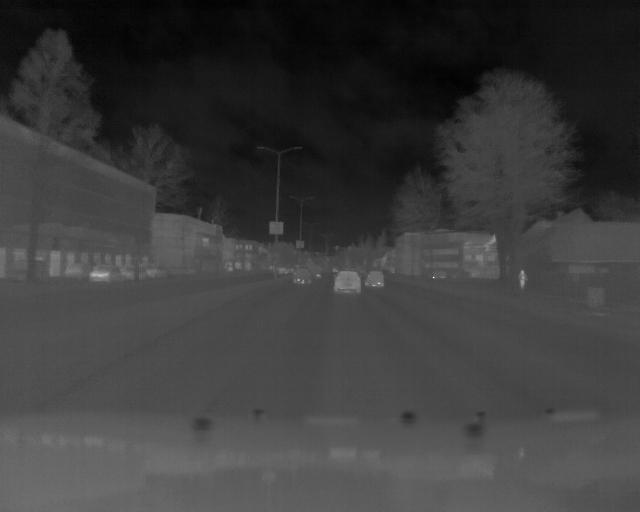car: (332, 270, 364, 295), (90, 262, 125, 283), (289, 265, 313, 286), (365, 269, 384, 289)
person: (516, 268, 529, 292)
